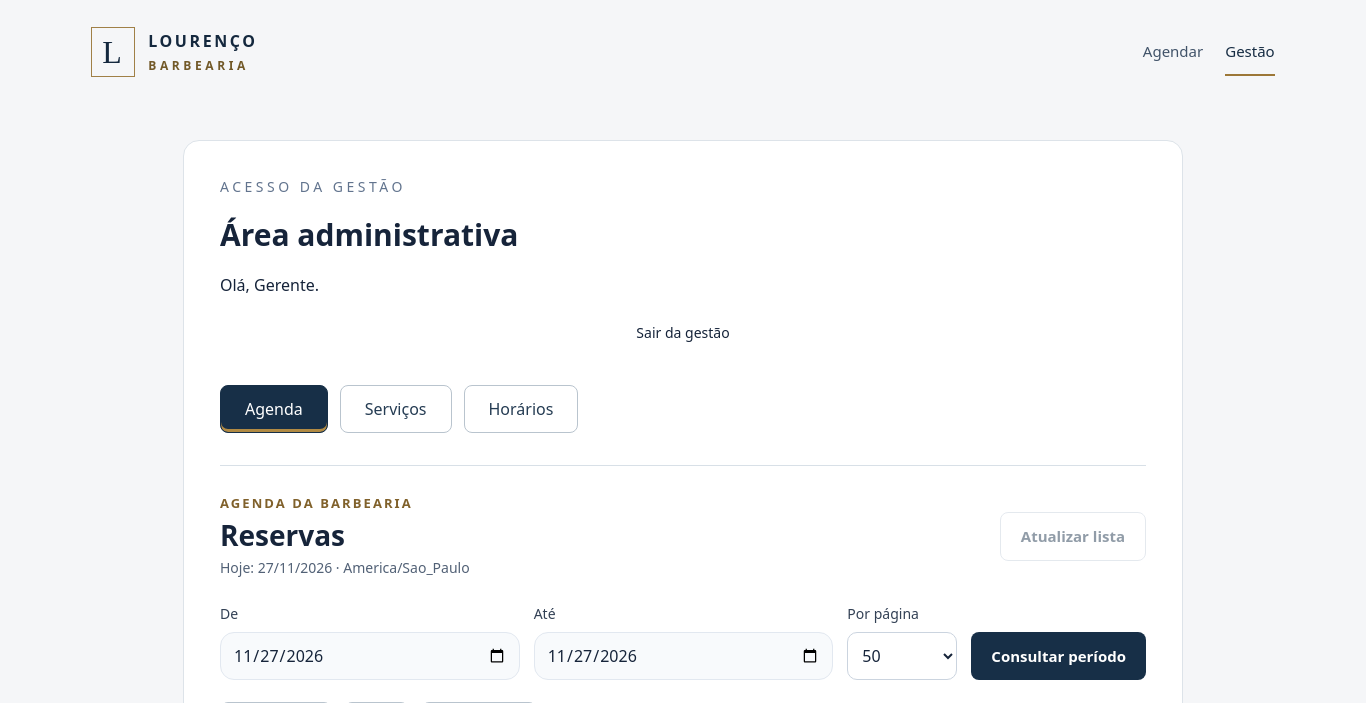
Test: confirms once with cookies, XSRF and If-Match, then reloads from server
The width and height of the screenshot is (1366, 703).
Step 1. Click the button "Horários" → (521, 409), box [464,385,578,433]
(page scrolled)
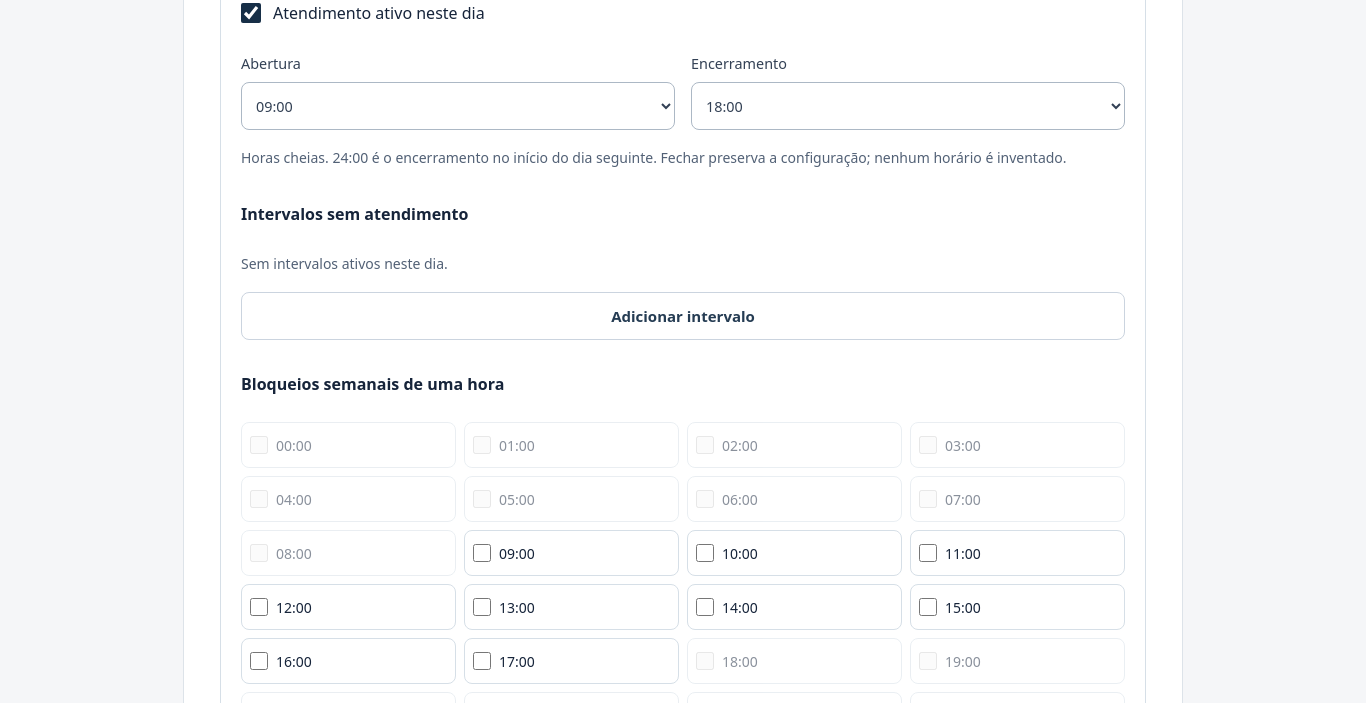
Step 2. Submit the form named "Configurar dia semanal"
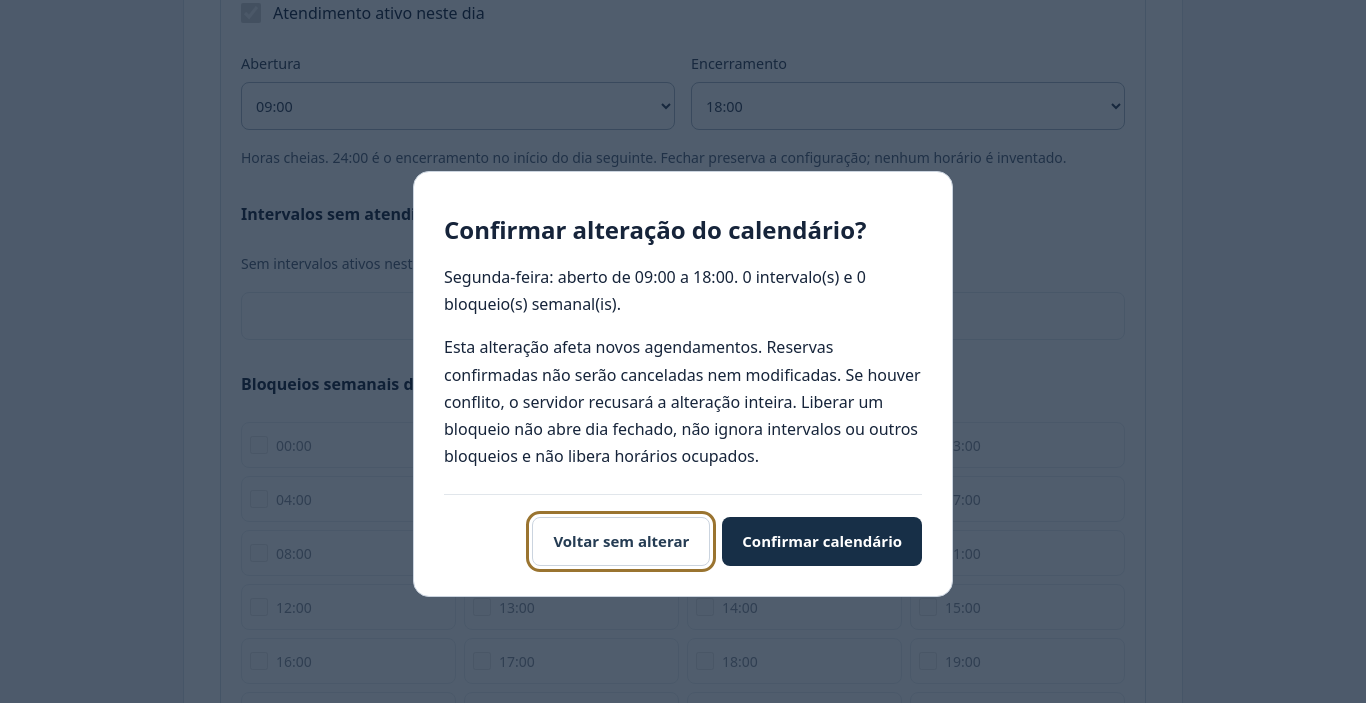
Step 3. Click the button "Confirmar calendário" → (822, 542), box [722,517,922,566]
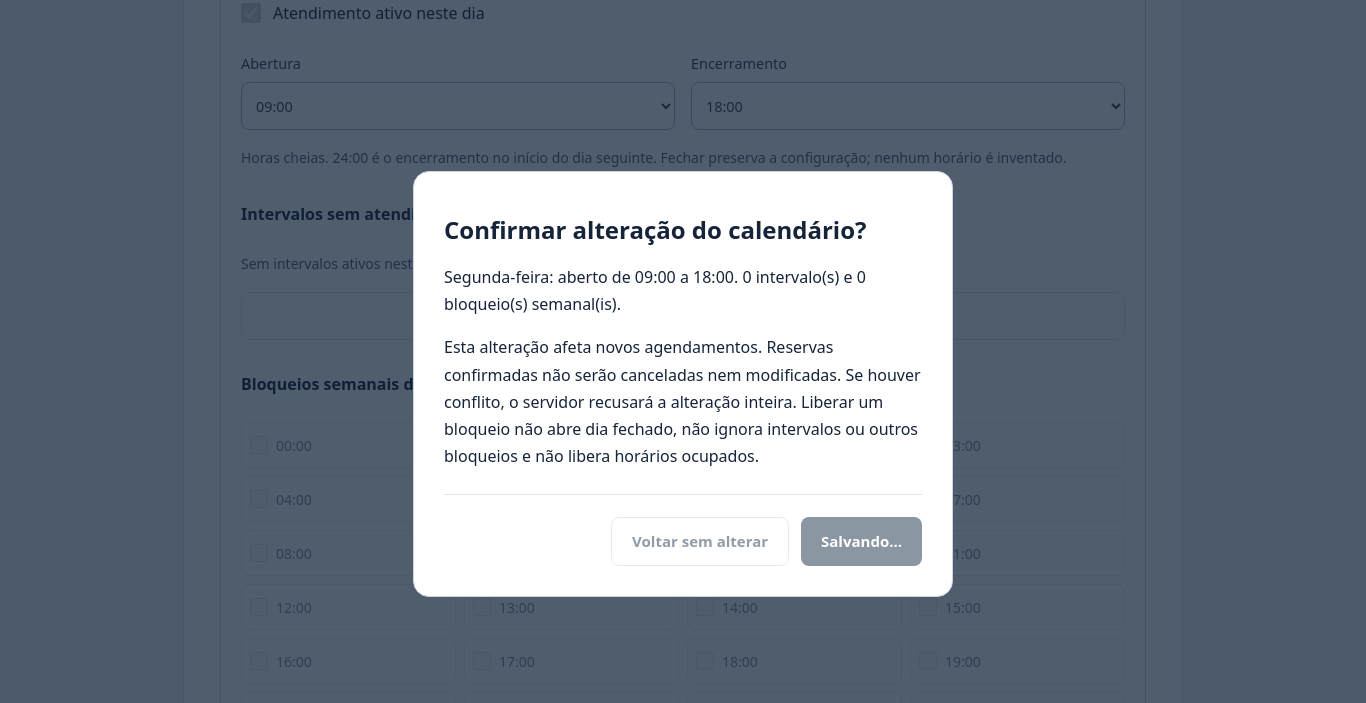
Step 4. Click the button named "Confirmar calendário" → (862, 542), box [801,517,922,566]
(page scrolled)
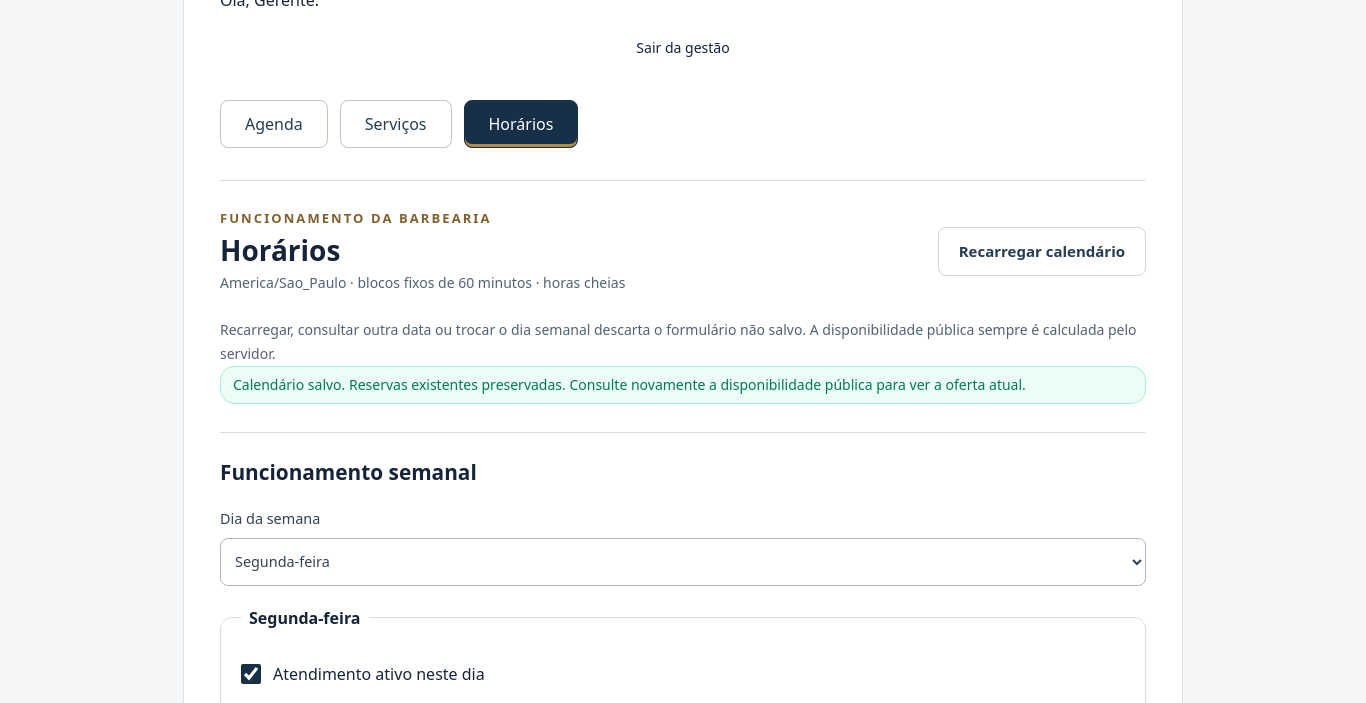
Now the text "Calendário salvo" is shown, box [233,375,1026,394]
